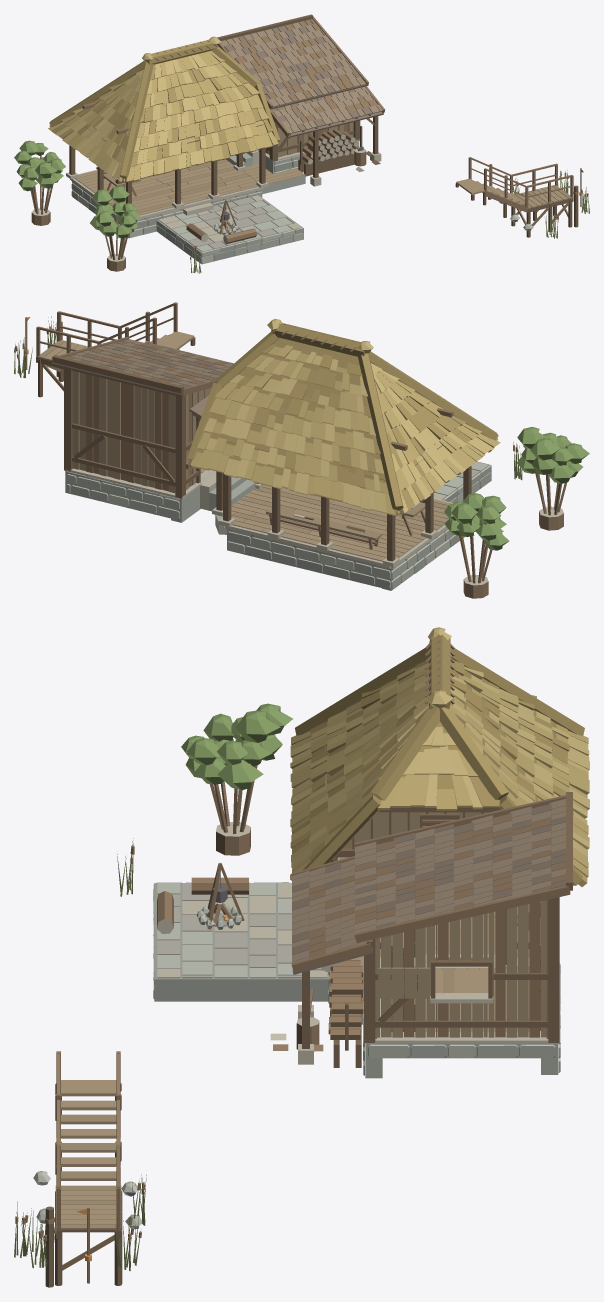
The model's file is survival.glb.
3 renders of one model, top to bottom at view 1: azimuth 30°, elevation 25°; view 2: azimuth 150°, elevation 25°; view 3: azimuth 270°, elevation 25°, orthographic. The views are drawn at different scales.
Visible parts, largest first — view 1: Survival_RoofThatch, Survival_RoofStore, Survival_Coppice, Survival_FloorYard, Survival_FloorCanopy, Survival_JettyFrame, Survival_ServiceLogPile_Stack, Survival_PlinthCanopy, Survival_PlinthYard, Survival_FrameCanopy, Survival_ShellStore, Survival_FloorPorch (+7 smaller); view 2: Survival_RoofThatch, Survival_ShellStore, Survival_Coppice, Survival_FloorCanopy, Survival_PlinthCanopy, Survival_RoofStore, Survival_ShellStoreBase, Survival_FrameCanopy, Survival_JettyFrame, Survival_FurnishingCanopy, Survival_StepLink, Survival_FloorYard (+4 smaller); view 3: Survival_RoofThatch, Survival_RoofStore, Survival_ShellStore, Survival_FloorYard, Survival_Coppice, Survival_ShellStoreBase, Survival_JettyFrame, Survival_ServiceLogPile_Stack, Survival_StepBank, Survival_DeckJetty, Survival_FloorStore, Survival_ServiceFirePit_Ring (+5 smaller).
Part boxes in pixels (<box>): Survival_RoofThatch: <box>48,36,280,182</box>; Survival_RoofStore: <box>217,14,385,137</box>; Survival_Coppice: <box>14,140,141,271</box>; Survival_FloorYard: <box>156,195,303,264</box>; Survival_FloorCanopy: <box>75,159,258,219</box>; Survival_JettyFrame: <box>455,157,578,237</box>; Survival_ServiceLogPile_Stack: <box>298,126,380,176</box>; Survival_PlinthCanopy: <box>70,169,263,238</box>; Survival_PlinthYard: <box>156,220,303,263</box>; Survival_FrameCanopy: <box>66,124,268,208</box>; Survival_ShellStore: <box>265,120,360,161</box>; Survival_FloorPorch: <box>242,164,305,194</box>; Survival_RoofThatch: <box>187,319,500,516</box>; Survival_ShellStore: <box>64,366,211,498</box>; Survival_Coppice: <box>444,427,589,598</box>; Survival_FloorCanopy: <box>227,485,451,570</box>; Survival_PlinthCanopy: <box>215,498,464,590</box>; Survival_RoofStore: <box>52,337,233,395</box>; Survival_ShellStoreBase: <box>64,468,212,522</box>; Survival_FrameCanopy: <box>212,432,471,567</box>; Survival_JettyFrame: <box>36,302,195,397</box>; Survival_FurnishingCanopy: <box>266,500,425,549</box>; Survival_StepLink: <box>200,473,256,511</box>; Survival_FloorYard: <box>433,462,491,501</box>; Survival_RoofThatch: <box>290,627,589,886</box>; Survival_RoofStore: <box>291,792,572,974</box>; Survival_ShellStore: <box>364,897,559,1042</box>; Survival_FloorYard: <box>154,883,328,1001</box>; Survival_Coppice: <box>181,695,536,855</box>; Survival_ShellStoreBase: <box>363,957,560,1078</box>; Survival_JettyFrame: <box>33,1051,141,1287</box>; Survival_ServiceLogPile_Stack: <box>270,960,363,1067</box>; Survival_StepBank: <box>60,1100,116,1180</box>; Survival_DeckJetty: <box>55,1185,121,1232</box>; Survival_FloorStore: <box>425,960,529,1031</box>; Survival_ServiceFirePit_Ring: <box>196,862,244,929</box>.
Size of the model in its own units: 23.47 by 8.78 by 13.12.
